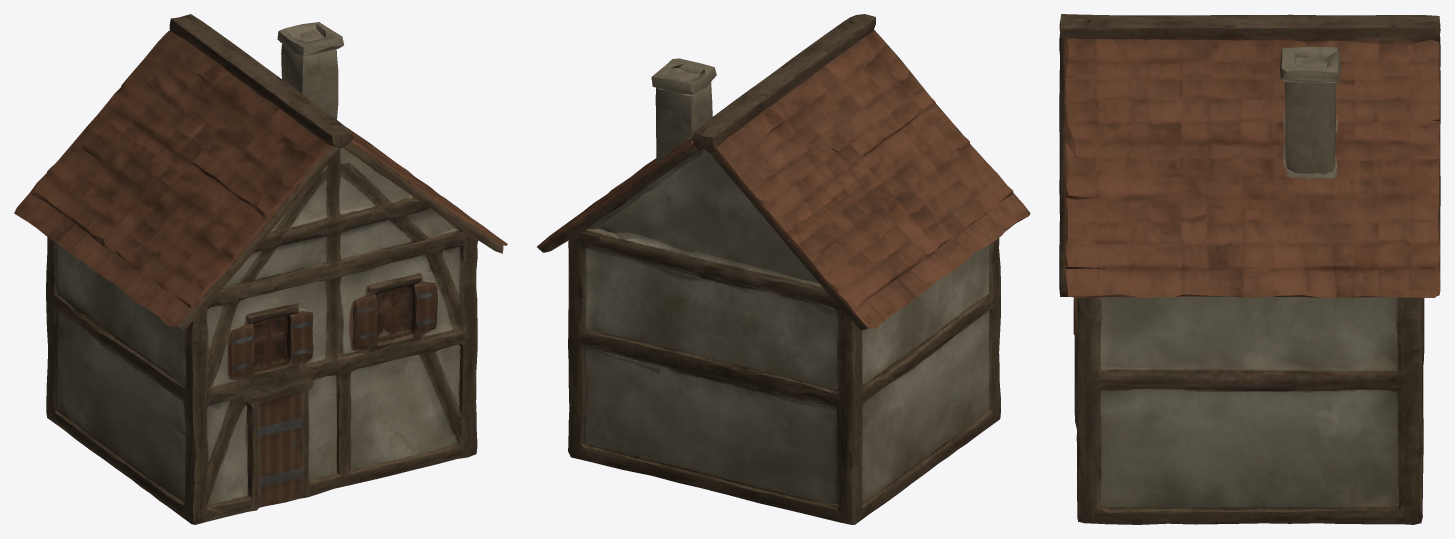
The model's file is 建筑-民居-house.glb.
3 views of the same model, side by side, from view 1: azimuth 30°, elevation 25°; view 2: azimuth 150°, elevation 25°; view 3: azimuth 270°, elevation 25° (orthographic). The views are drawn at different scales.
Visible parts, largest first — view 1: WallBody, RoofLeft, Gables, RidgeCap, RoofRight, ChimneyBody, ChimneyCap, WinPanel1; view 2: WallBody, RoofLeft, Gables, RidgeCap, RoofRight, ChimneyBody, ChimneyCap; view 3: RoofRight, WallBody, RidgeCap, ChimneyBody, ChimneyCap.
Part boxes in pixels (<box>): WallBody: <box>46,228,478,524</box>; RoofLeft: <box>14,31,339,330</box>; Gables: <box>224,147,453,286</box>; RidgeCap: <box>169,14,353,148</box>; RoofRight: <box>342,127,507,253</box>; ChimneyBody: <box>281,41,338,119</box>; ChimneyCap: <box>277,22,343,56</box>; WinPanel1: <box>377,302,405,332</box>; WallBody: <box>568,228,1000,524</box>; RoofLeft: <box>711,30,1030,330</box>; Gables: <box>584,149,819,283</box>; RidgeCap: <box>692,14,875,153</box>; RoofRight: <box>537,137,703,252</box>; ChimneyBody: <box>655,79,712,161</box>; ChimneyCap: <box>651,58,716,94</box>; RoofRight: <box>1059,37,1440,298</box>; WallBody: <box>1073,296,1424,524</box>; RidgeCap: <box>1059,14,1440,44</box>; ChimneyBody: <box>1285,82,1336,173</box>; ChimneyCap: <box>1280,46,1340,82</box>.
Bounding box in the file's own units: 1.93 × 2 × 1.61.
Materials: 1 (1 with a texture image).
